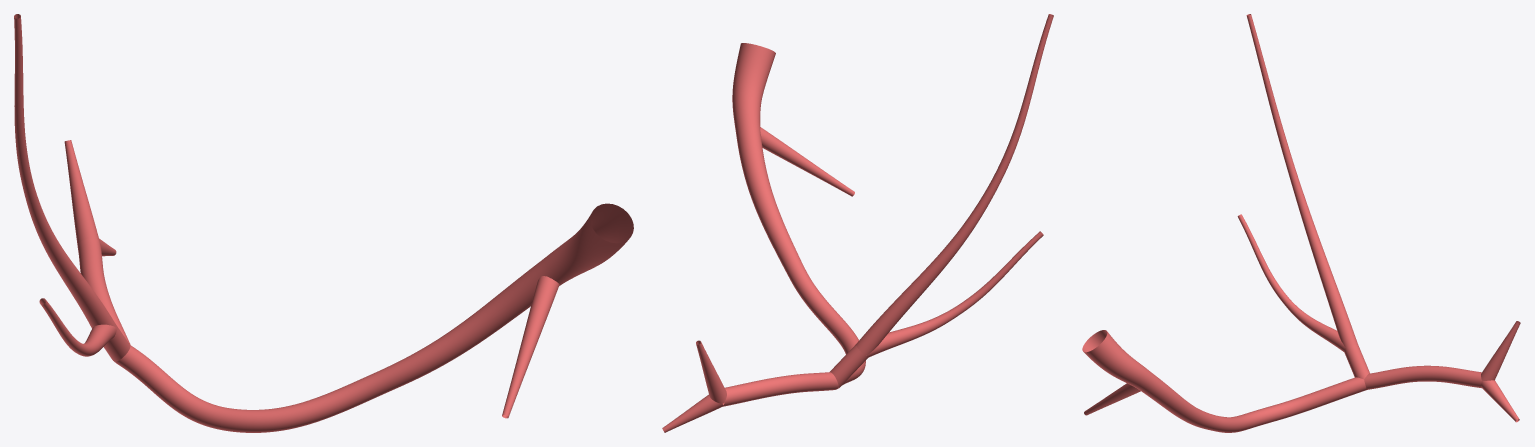
Rendered from Superior_gluteal_artery.r_BezierCurve.398.glb.
The picture shows the model from 3 angles, left to right: view 1: azimuth 30°, elevation 25°; view 2: azimuth 150°, elevation 25°; view 3: azimuth 270°, elevation 25°; orthographic projection. The views are drawn at different scales.
Parts seen in each view (by area): view 1: Superior_gluteal_artery.r_BezierCurve.398; view 2: Superior_gluteal_artery.r_BezierCurve.398; view 3: Superior_gluteal_artery.r_BezierCurve.398.
Boxes of the visible parts, left/top/right/bottom form: Superior_gluteal_artery.r_BezierCurve.398: left=14, top=14, right=633, bottom=432; Superior_gluteal_artery.r_BezierCurve.398: left=662, top=14, right=1053, bottom=432; Superior_gluteal_artery.r_BezierCurve.398: left=1082, top=14, right=1520, bottom=432.
Size of the model in its own units: 0.0482 by 0.0441 by 0.053.
